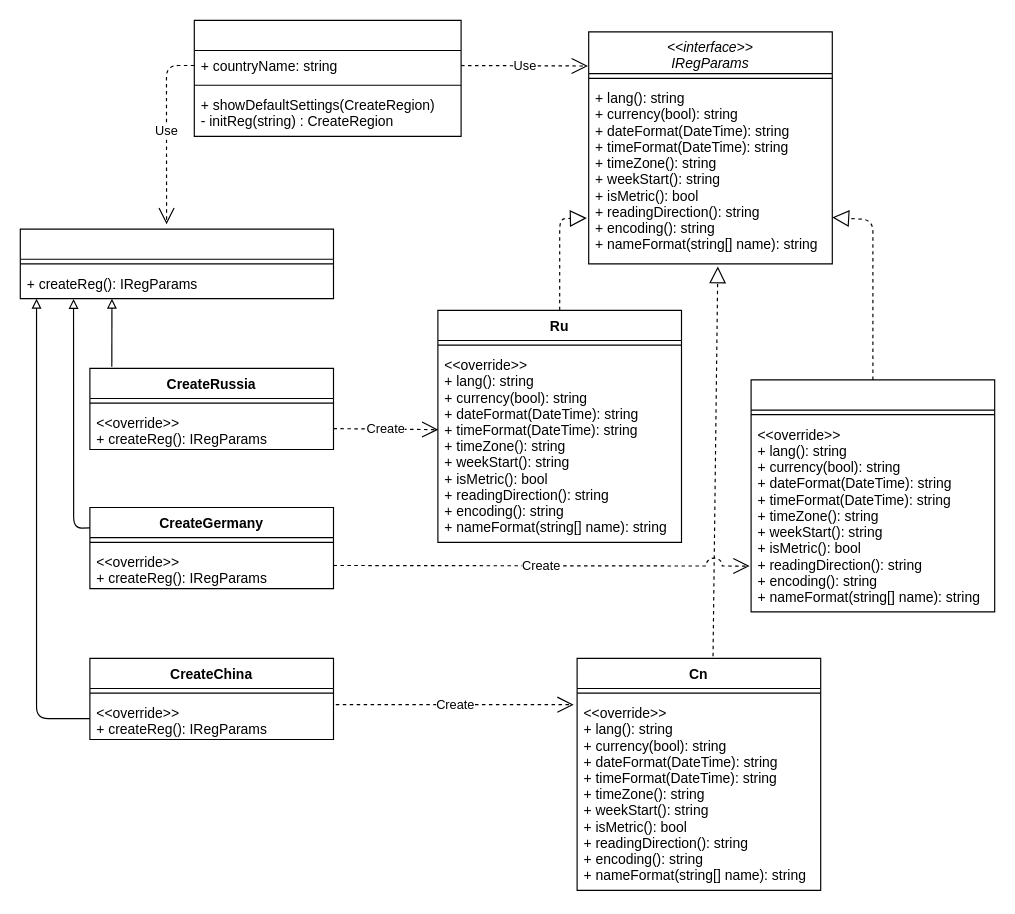
Some shapes in this 1015 by 914 pixel diagram are drawn without their labels. Here are the shapes that lost their labels. From the top down, the box of each, then its label:
(193, 19, 461, 136): Regions
(19, 228, 334, 299): CreateRegion
(750, 379, 995, 612): De
